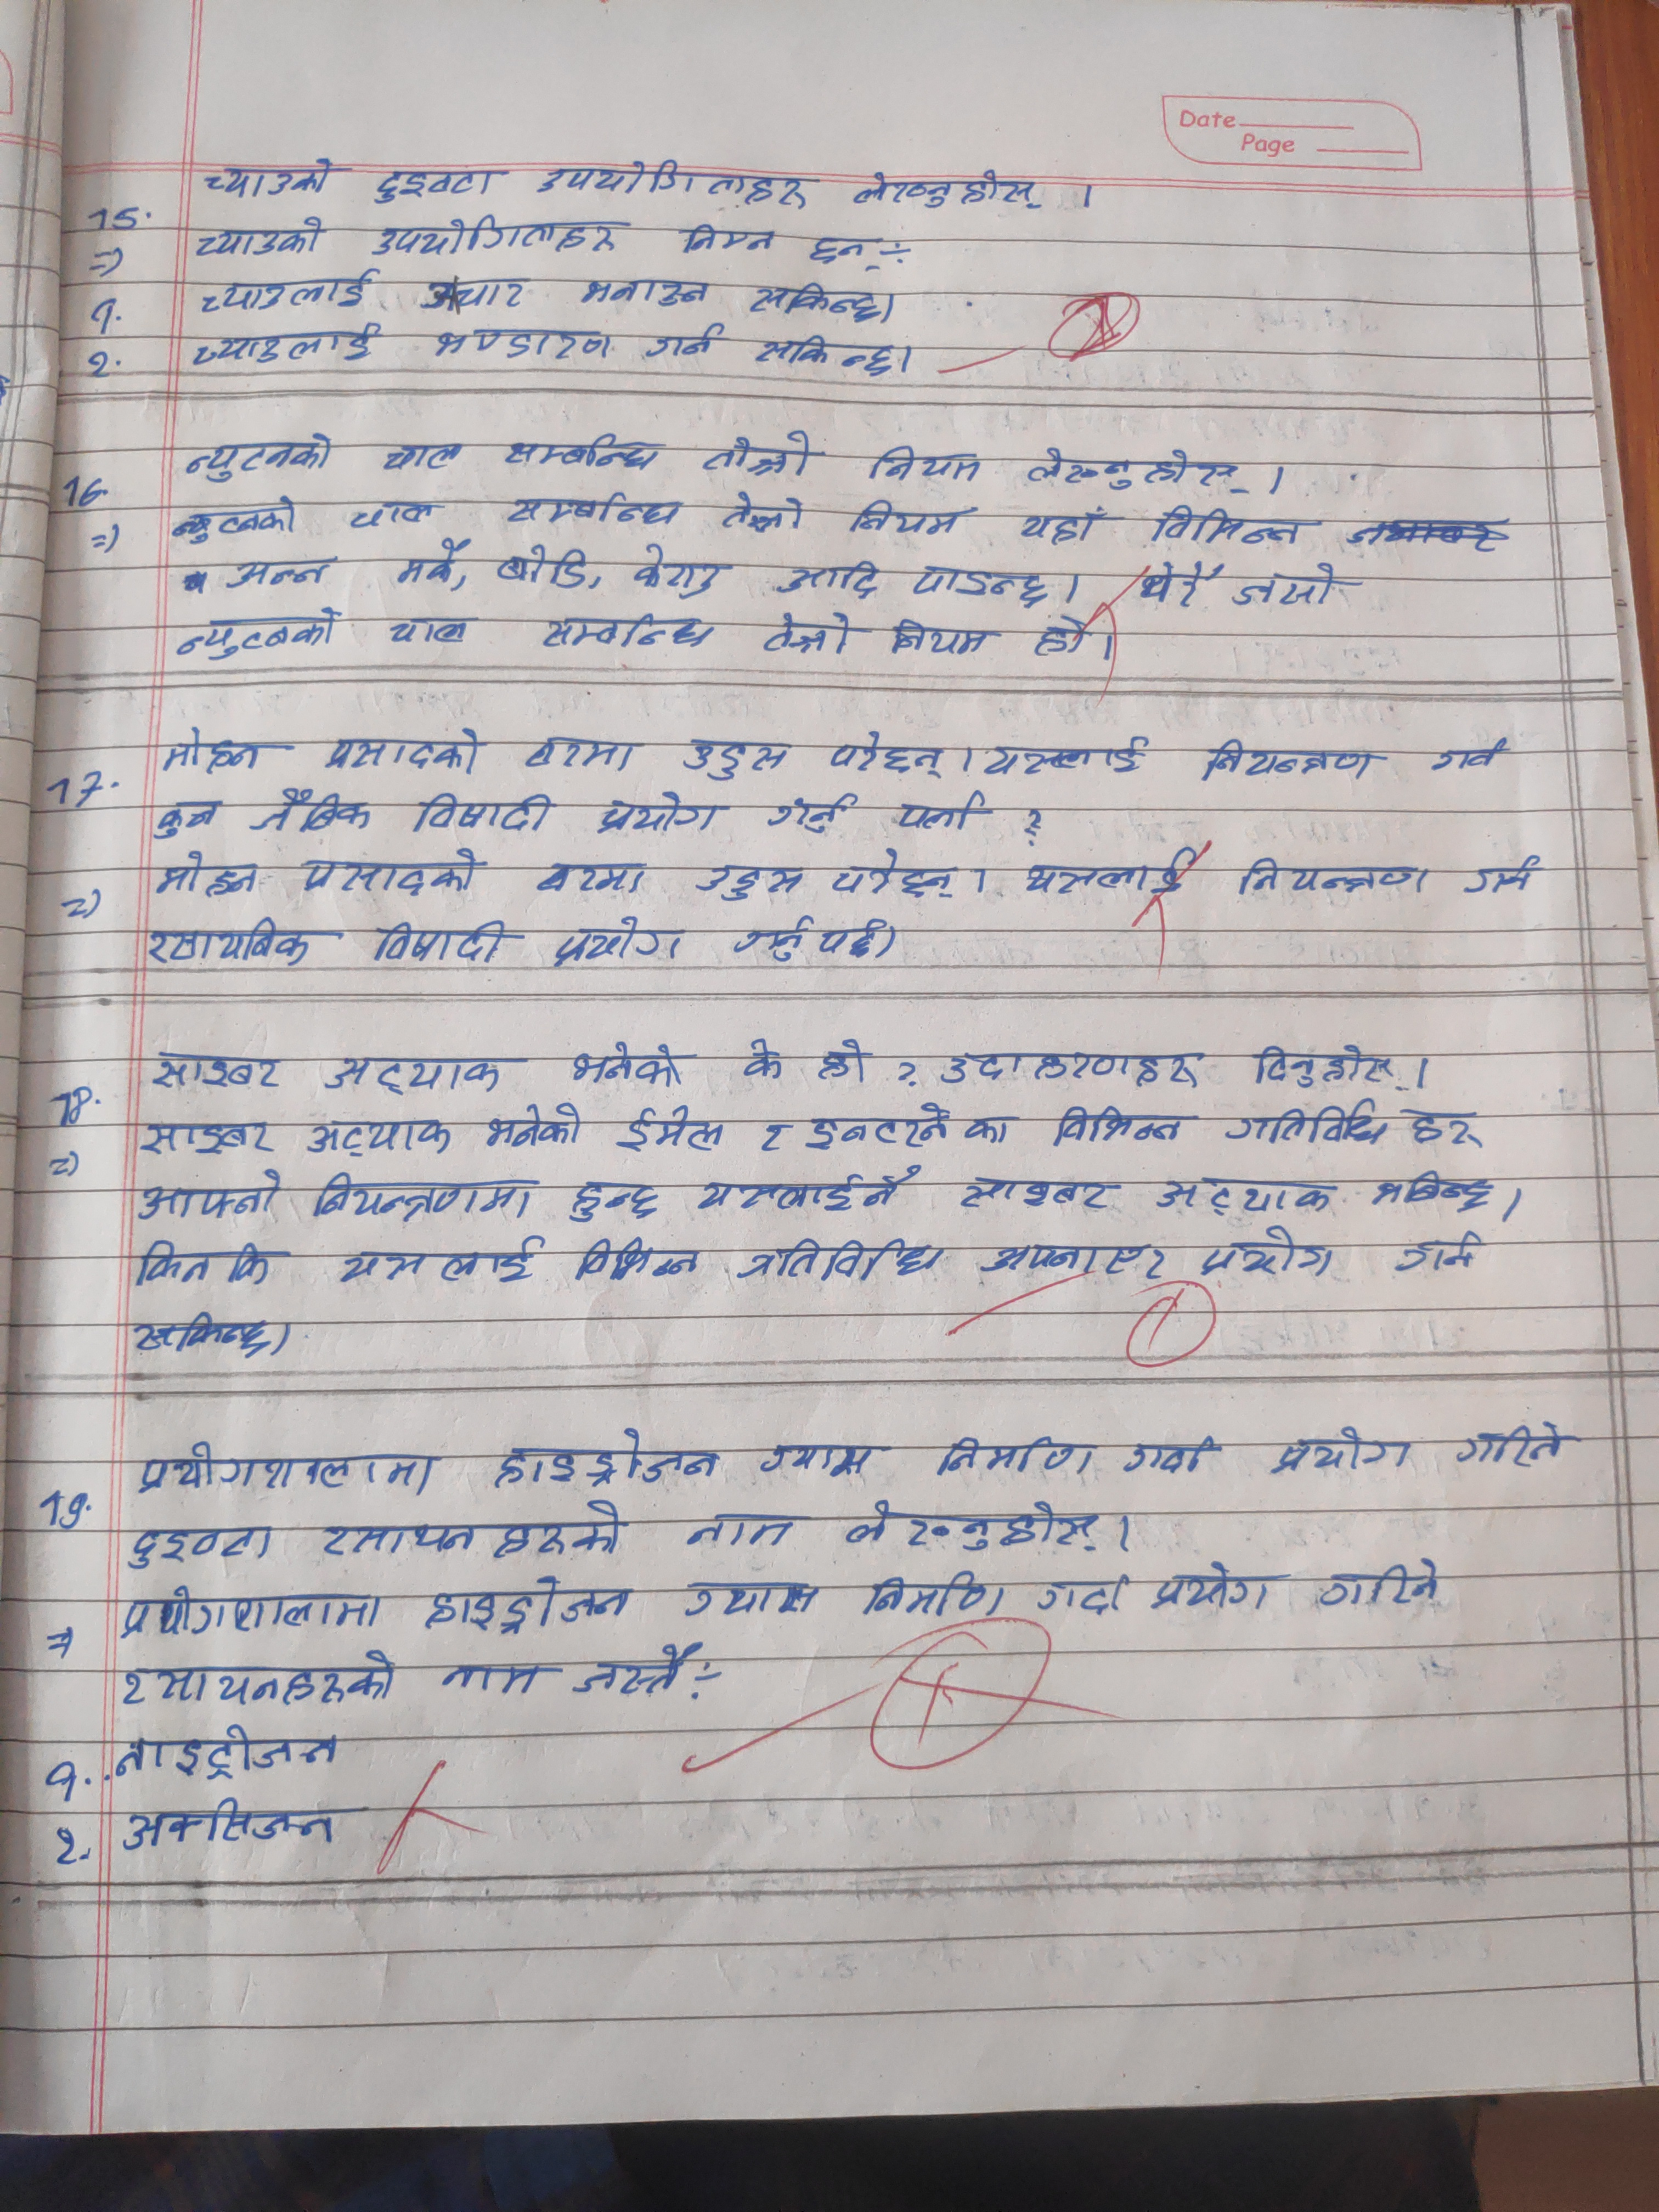text: (321, 1498, 634, 1557), (136, 1440, 441, 1500), (117, 1796, 373, 1864), (843, 1498, 1108, 1557), (115, 1653, 401, 1707), (537, 157, 824, 209), (113, 1585, 387, 1639), (113, 1721, 349, 1784), (486, 1426, 723, 1487), (943, 1038, 1206, 1092), (1021, 441, 1249, 500), (418, 1575, 638, 1635), (373, 214, 636, 258), (305, 1170, 540, 1217), (286, 846, 495, 899), (338, 1237, 545, 1289), (934, 1425, 1107, 1487), (533, 601, 727, 657), (1194, 732, 1387, 786), (145, 920, 345, 970), (186, 320, 385, 371), (1263, 1421, 1419, 1486), (695, 1167, 922, 1211), (314, 1050, 528, 1096), (735, 1237, 948, 1282), (324, 721, 486, 779), (1047, 1097, 1204, 1157), (1150, 1170, 1344, 1217), (498, 482, 685, 531), (1147, 498, 1326, 549), (1019, 848, 1199, 899), (849, 1569, 1016, 1623), (849, 164, 1047, 209), (976, 1237, 1175, 1282), (364, 913, 526, 967), (807, 1096, 953, 1155), (425, 320, 624, 364), (1195, 1228, 1340, 1287), (134, 1169, 288, 1224), (1230, 855, 1434, 897), (185, 268, 380, 312), (1150, 1561, 1297, 1618), (575, 1639, 704, 1703), (408, 786, 559, 840), (162, 721, 296, 782), (174, 608, 342, 657), (957, 1170, 1124, 1219), (195, 152, 350, 204), (985, 730, 1145, 780), (1246, 1038, 1406, 1089), (132, 1238, 295, 1287), (127, 1306, 277, 1359), (1225, 1101, 1391, 1148), (734, 911, 885, 961), (824, 846, 965, 900), (906, 559, 1056, 610), (493, 430, 666, 474), (1446, 1418, 1581, 1474), (246, 787, 389, 840), (183, 428, 335, 477), (1236, 556, 1366, 611), (1366, 1162, 1497, 1217), (755, 329, 903, 378), (627, 531, 734, 599), (589, 789, 730, 840), (819, 728, 955, 780), (674, 1575, 819, 1623), (756, 1437, 896, 1487), (563, 1040, 687, 1096), (568, 1238, 704, 1289), (1314, 1557, 1445, 1609), (545, 916, 685, 965), (148, 1042, 282, 1092), (746, 273, 884, 322), (749, 606, 868, 662), (305, 1115, 453, 1158), (166, 496, 301, 543), (119, 1526, 284, 1564), (775, 550, 889, 606), (434, 1656, 563, 1705), (863, 434, 983, 486), (880, 610, 1002, 660), (697, 432, 823, 481), (514, 730, 648, 775), (847, 496, 976, 543), (134, 1116, 279, 1158), (678, 730, 793, 782), (192, 212, 324, 258), (610, 1106, 728, 1157), (673, 1507, 805, 1550), (474, 1106, 586, 1157), (1119, 1435, 1220, 1491), (526, 859, 655, 902), (694, 857, 809, 906), (1398, 1097, 1495, 1155), (152, 852, 261, 902), (373, 162, 511, 202), (490, 540, 594, 592), (713, 482, 814, 536), (1014, 498, 1124, 547), (894, 787, 1004, 836), (559, 1177, 666, 1226), (1131, 556, 1227, 610), (575, 272, 714, 308), (763, 786, 863, 836), (336, 491, 444, 536), (1387, 1228, 1483, 1277), (674, 218, 786, 258), (415, 272, 530, 310), (378, 610, 488, 650), (223, 556, 347, 590), (807, 1035, 877, 1096), (636, 319, 727, 364), (387, 540, 474, 587), (1026, 606, 1100, 662), (1032, 1576, 1131, 1616), (373, 441, 471, 479), (1459, 855, 1547, 895), (1424, 737, 1511, 777), (807, 228, 887, 270), (962, 1111, 1035, 1157), (739, 1035, 798, 1090), (152, 796, 225, 838), (753, 1120, 793, 1160)
